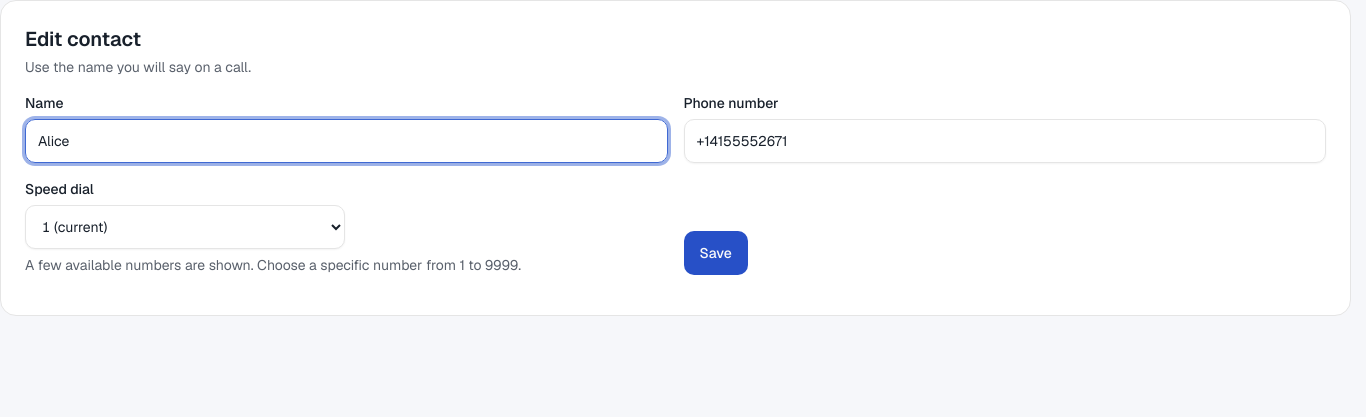
Test: available speed dials › blocks invalid or occupied custom number
Step 1. Select "Choose a specific number…" in the dropdown labelled "Speed dial" → {"x": 185, "y": 227}, box [25,205,345,249]
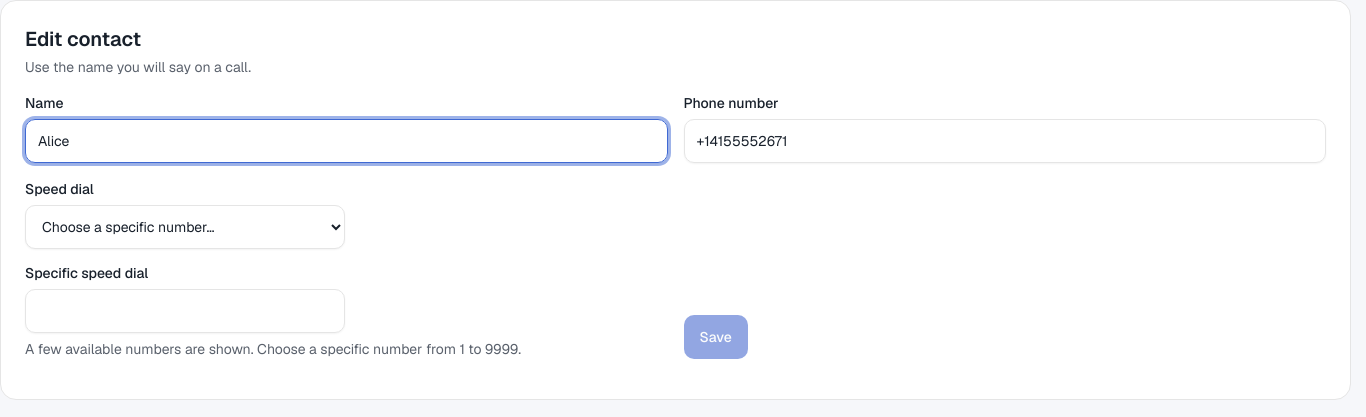
Step 2. Clear the number field labelled "Specific speed dial" → {"x": 185, "y": 311}, box [25,289,345,333]
Expected: the button "Save" is disabled, [684,315,748,359]
Step 3. Submit the form named "Edit Alice"
Returning to a suggestion removes custom validation and its submitted value.
Step 4. Select "3" in the dropdown labelled "Speed dial" → {"x": 185, "y": 227}, box [25,205,345,249]
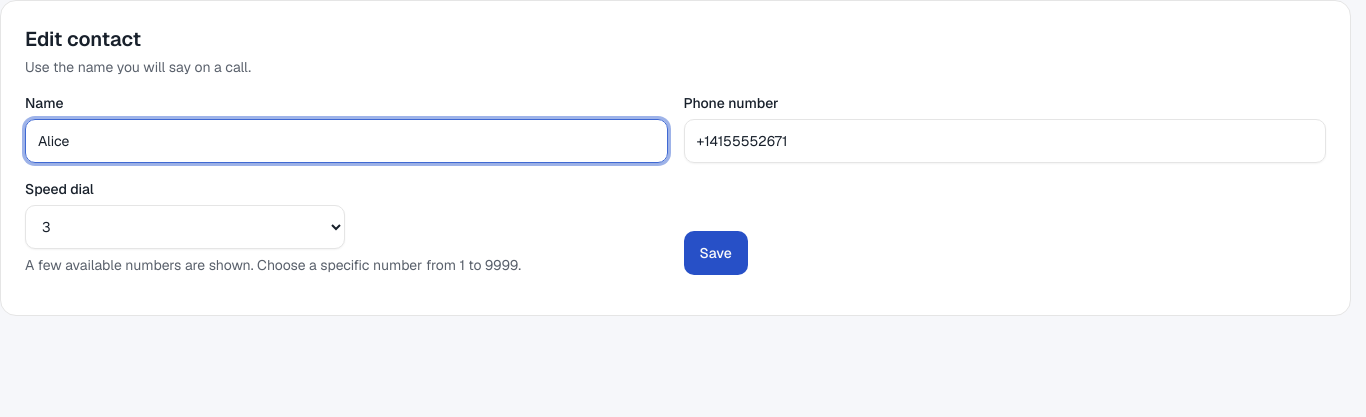
Expected: the button "Save" is enabled, [684,231,748,275]
